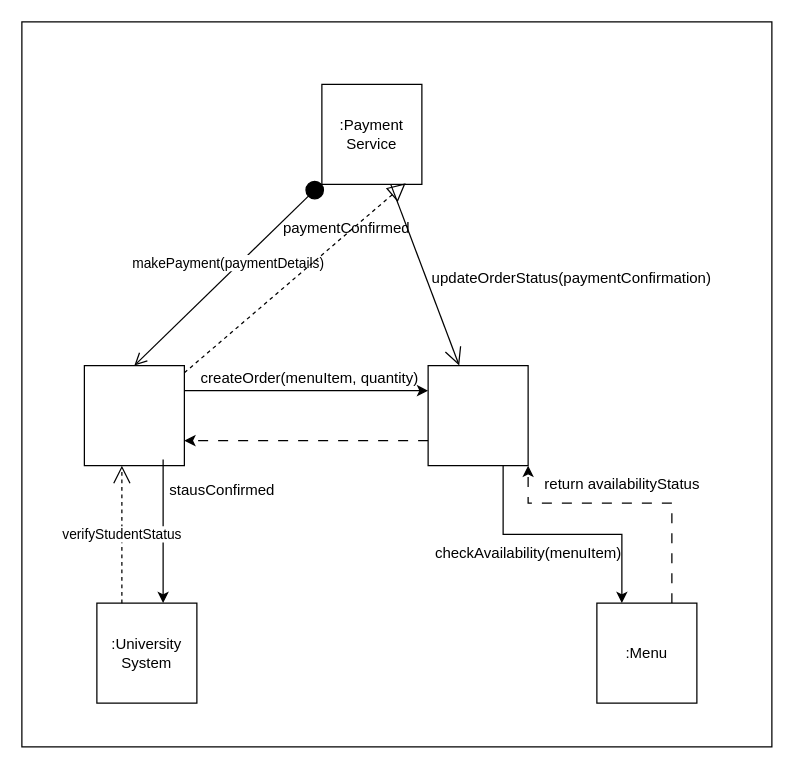
The diagram is 794 pixels wide and 769 high, and some of its shapes have lost their labels. The centre of each missing label's shape, as x and y in pixels:
:Customer: (x=133, y=415)
:OrderSystem: (x=477, y=415)
